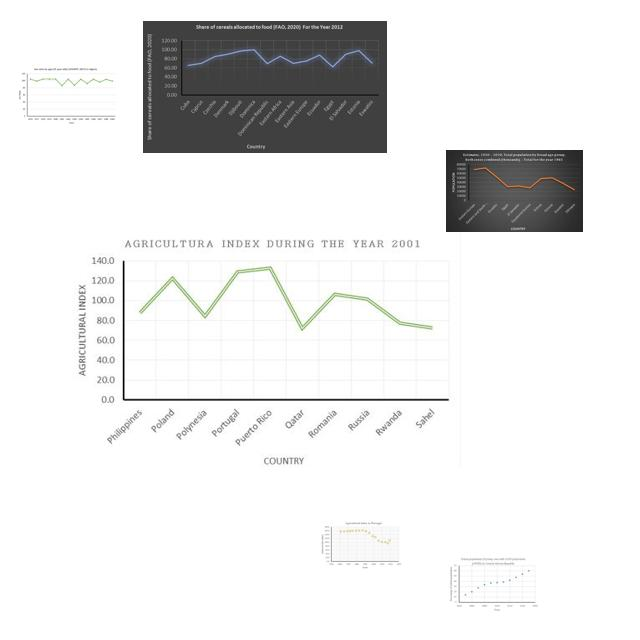Graph: (67, 233, 461, 467), (143, 21, 387, 153), (446, 150, 583, 232), (16, 65, 118, 126), (448, 556, 539, 612), (319, 520, 403, 569)
